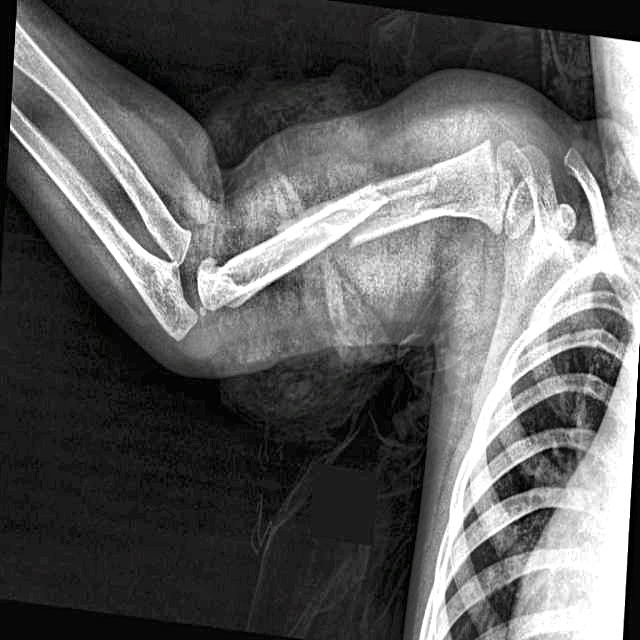Transverse: (319, 165, 403, 268)
